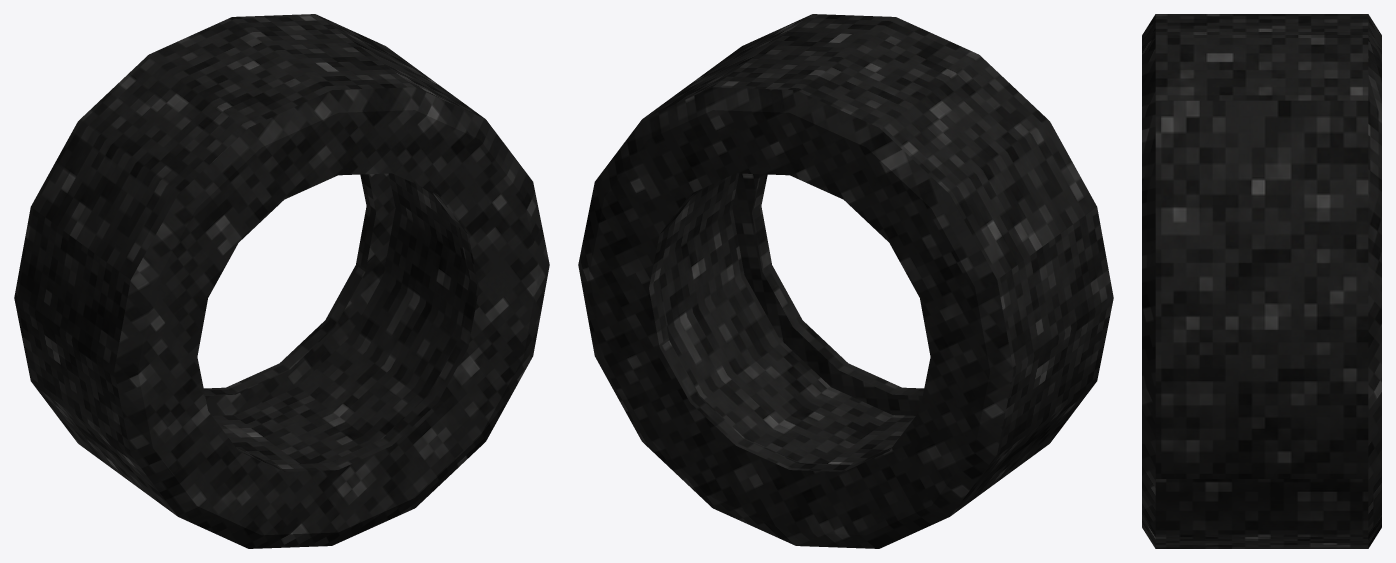
Rendered from tire.fbx.
3 renders of one model, left to right at view 1: azimuth 30°, elevation 25°; view 2: azimuth 150°, elevation 25°; view 3: azimuth 270°, elevation 25°, orthographic. The views are drawn at different scales.
Visible parts, largest first — view 1: roll; view 2: roll; view 3: roll.
Part boxes in pixels (x1,y1,x2,y2): roll: (14,14,549,548); roll: (578,14,1113,548); roll: (1142,14,1381,548).
Size of the model in its own units: 200 by 200 by 89.52.
